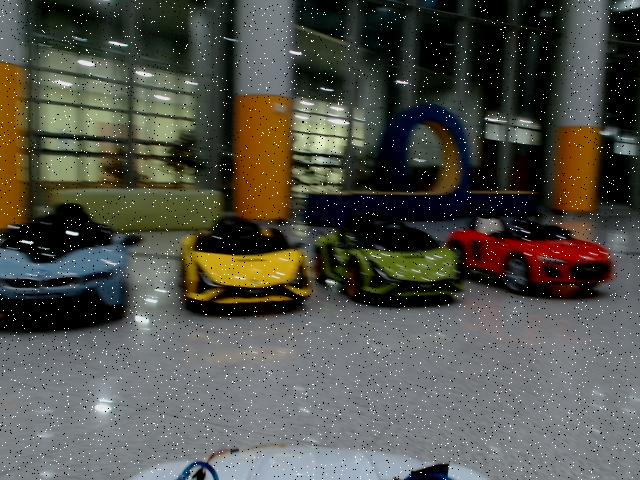car: (1, 203, 142, 322), (447, 209, 613, 292), (311, 216, 460, 304), (181, 216, 311, 310)
